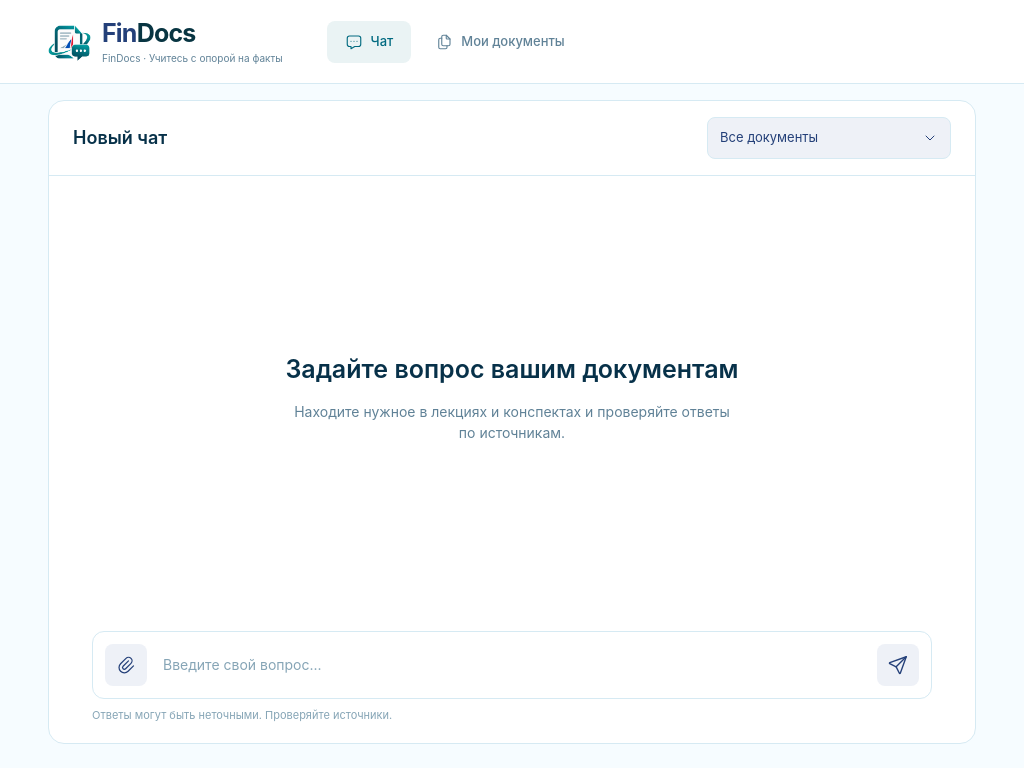
Test: App: область поиска и удаление документов › удаление документа в режиме all сохраняет режим all
The width and height of the screenshot is (1024, 768).
Expected: the heading "Задайте вопрос вашим документам" is shown, [285,352,738,387]
What coordinates should you click on to do the following:
click the button with aria-label "Область поиска:"
I would click on:
 (829, 138)
Its box is [707,117,951,159].
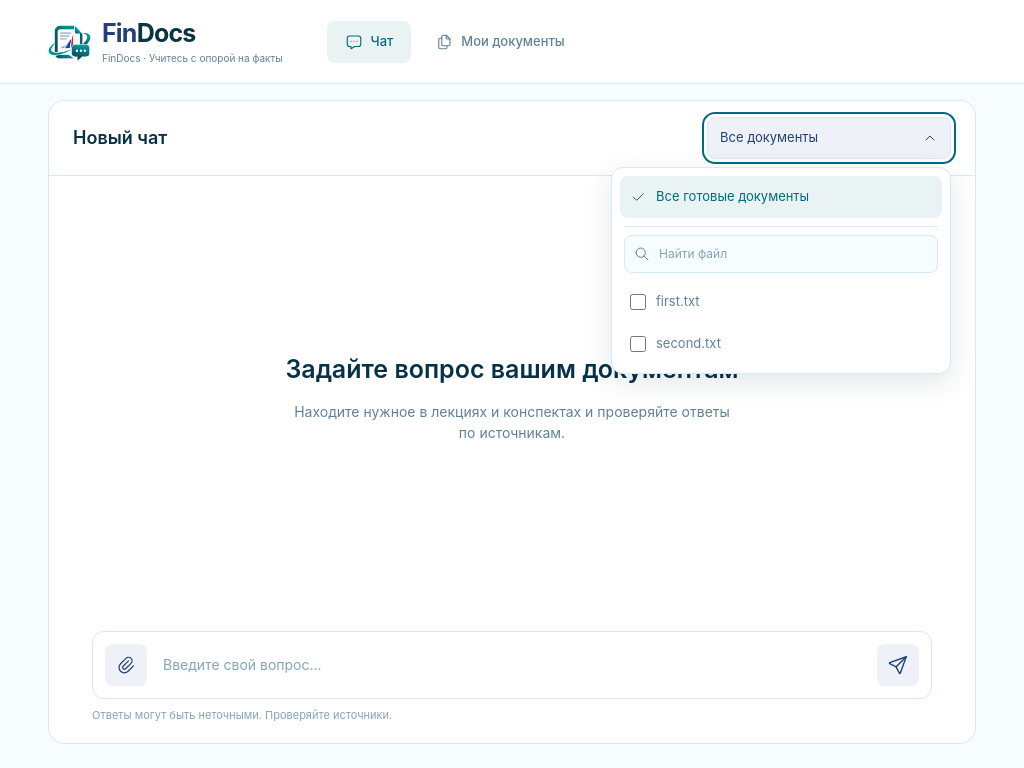
What coordinates should you click on to do the following:
click the button "Мои документы"
I would click on:
 (500, 42)
Its box is [417,20,583,62].
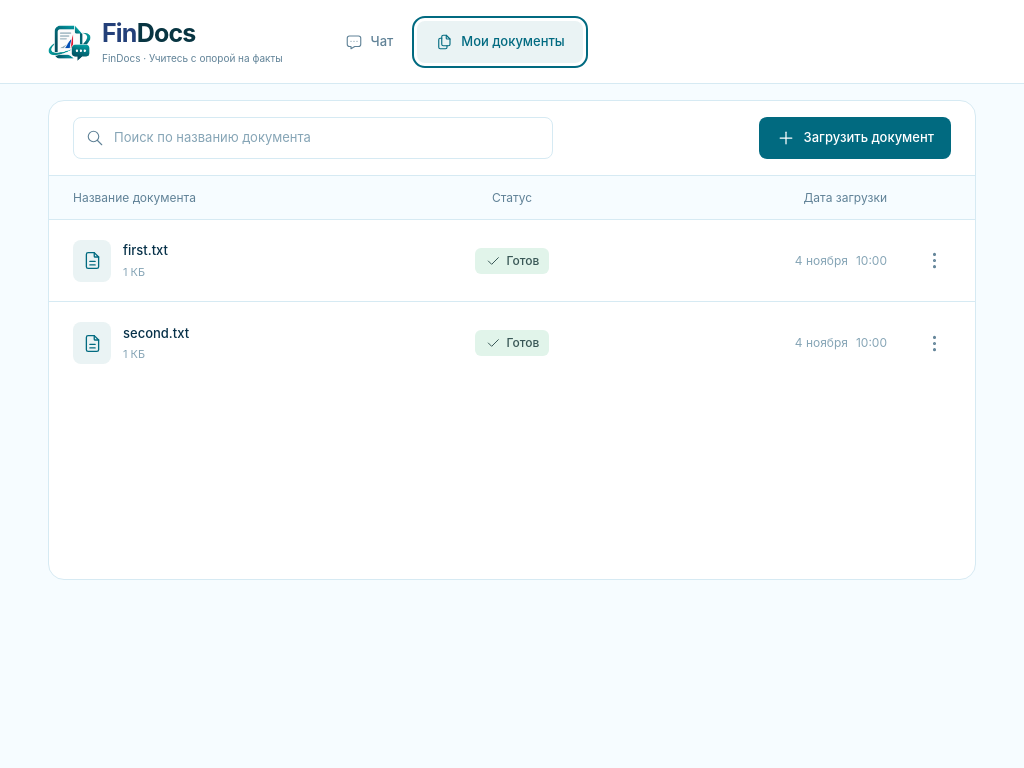
What coordinates should you click on to do the following:
click the button named "Действия с файлом «first.txt»"
I would click on:
 (934, 260)
Its box is [917,244,951,278].
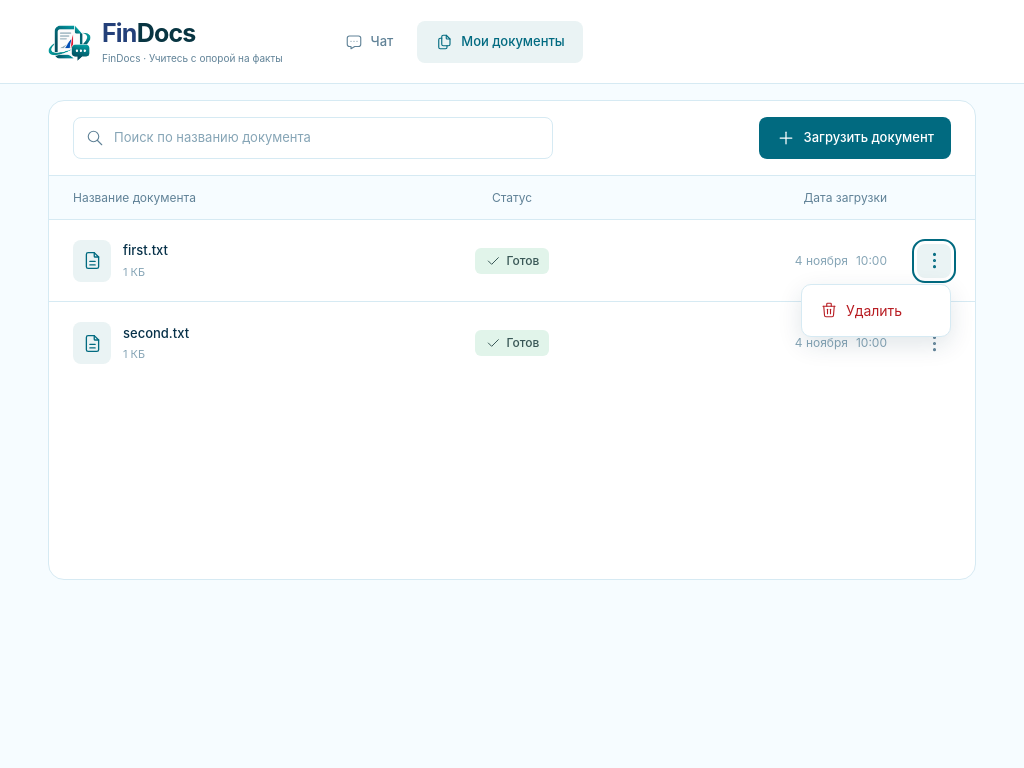
What coordinates should you click on to do the following:
click the button "Удалить"
I would click on:
 (876, 310)
Its box is [808,290,944,330].
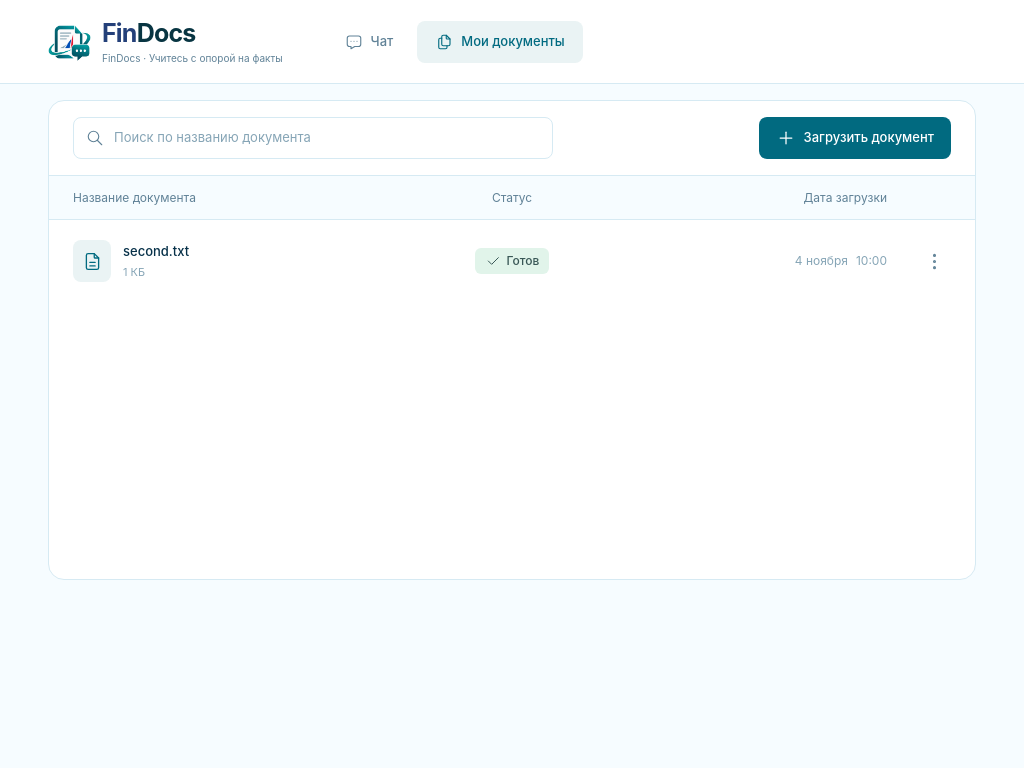
Result: the text "first.txt" is gone
What coordinates should you click on to do the following:
click the button "Чат"
I would click on:
 (369, 42)
Its box is [326,20,411,62].
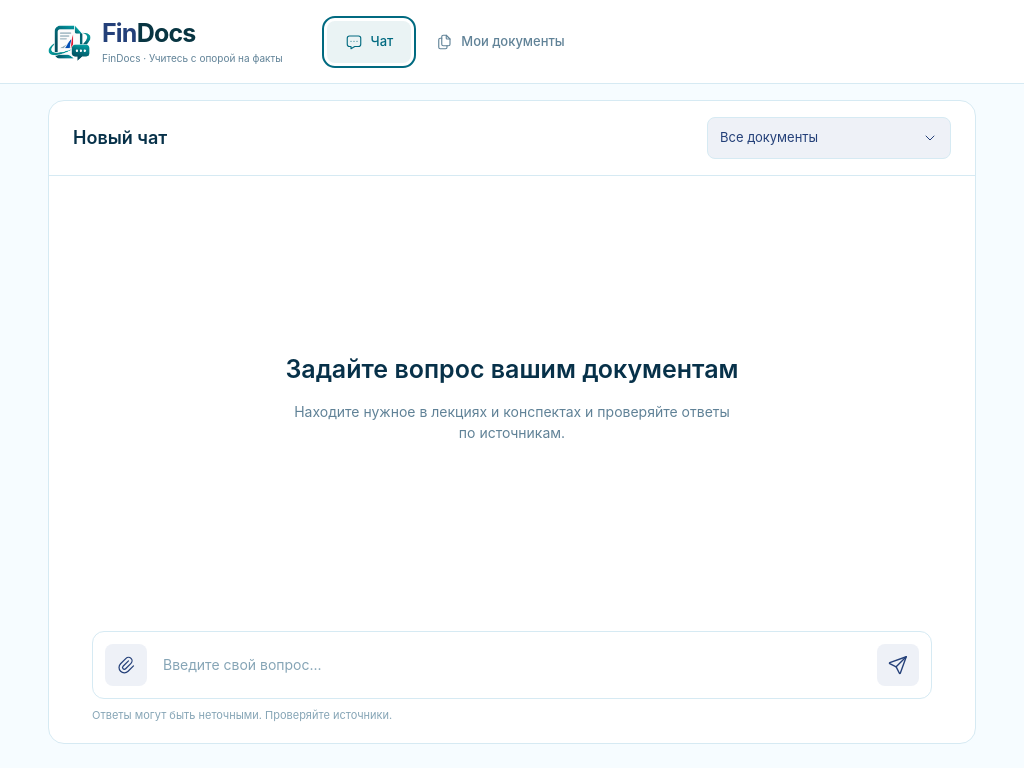
Result: the button with aria-label "Область поиска: Все документы" is shown at [707,117,951,159]
Result: the text box named "Ваш вопрос" is enabled at [159,648,865,680]
